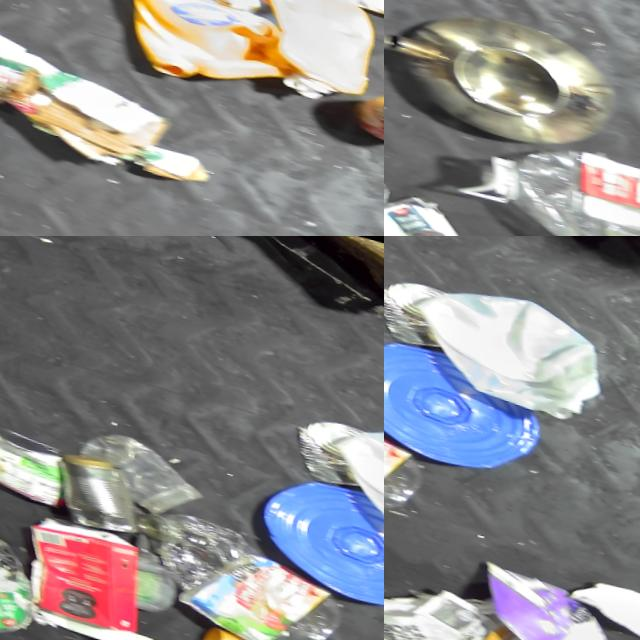can: (44, 449, 141, 538), (285, 404, 369, 486), (0, 420, 64, 507), (384, 265, 449, 347), (347, 68, 384, 145)
milk_jug: (396, 261, 612, 421), (315, 399, 384, 560)
non_white_jug: (3, 507, 172, 640), (118, 0, 298, 97), (454, 549, 640, 640), (254, 0, 383, 97)
